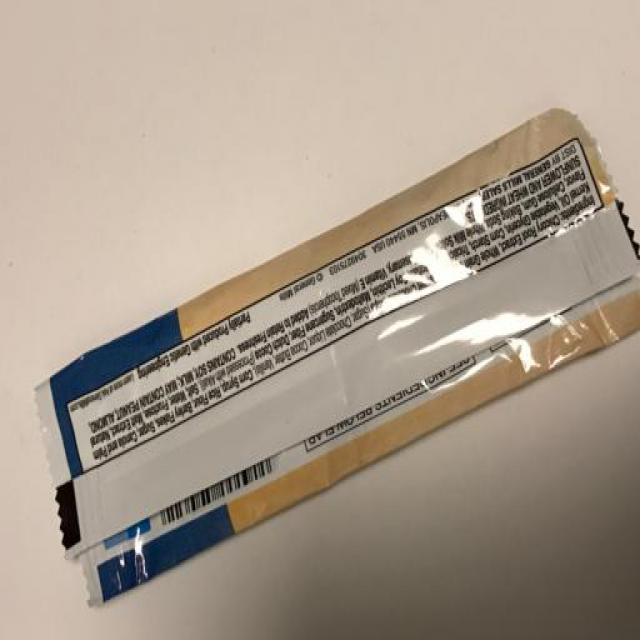plastic: (35, 107, 640, 640)
